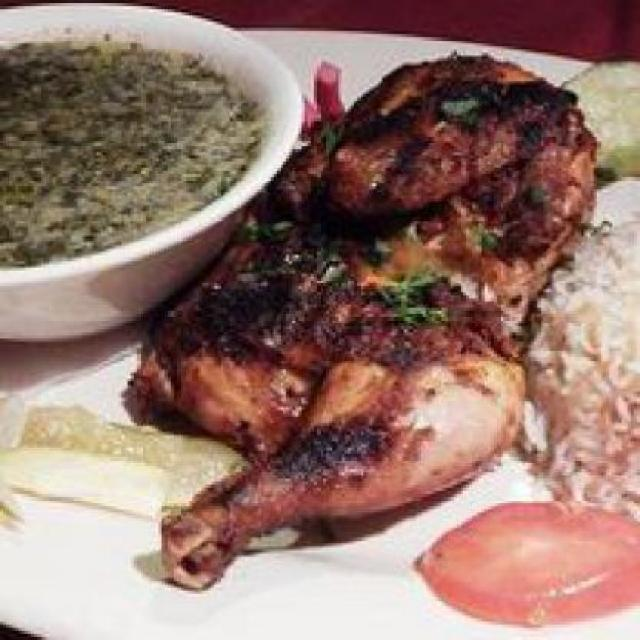chicken wings: (180, 345, 518, 572)
fried rice: (534, 171, 637, 494)
